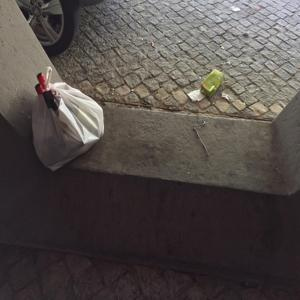cardboard: (192, 74, 237, 100)
plastic: (30, 65, 118, 168)
